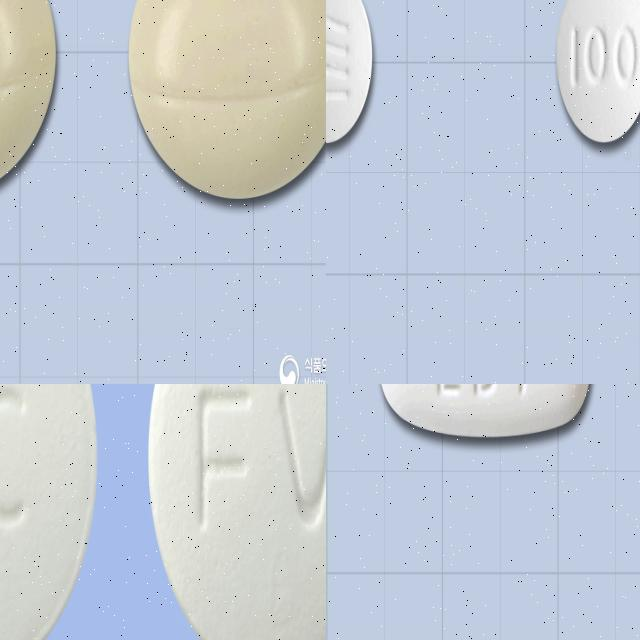Famviro: (148, 384, 326, 640), (0, 384, 98, 640)
Levotra: (556, 0, 640, 143), (326, 0, 374, 143)
Neopol Vaginal Soft Cap: (128, 0, 326, 201)
Seoul Cefixime Cap: (378, 384, 593, 439)
